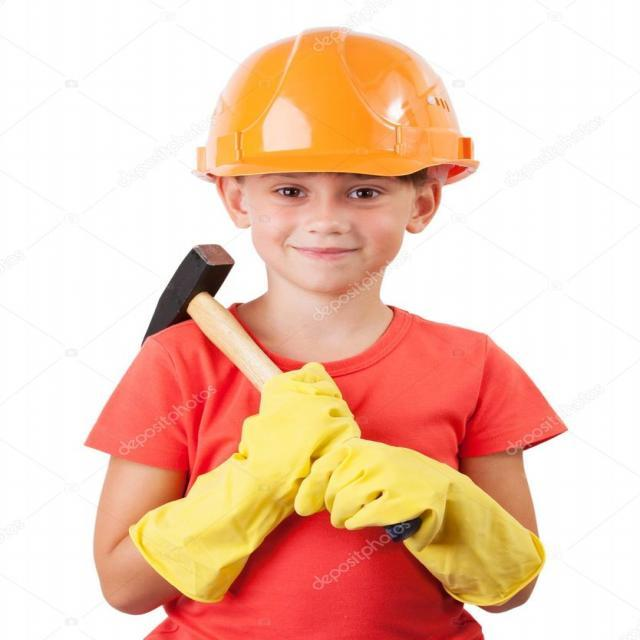hammer: (138, 237, 432, 551)
